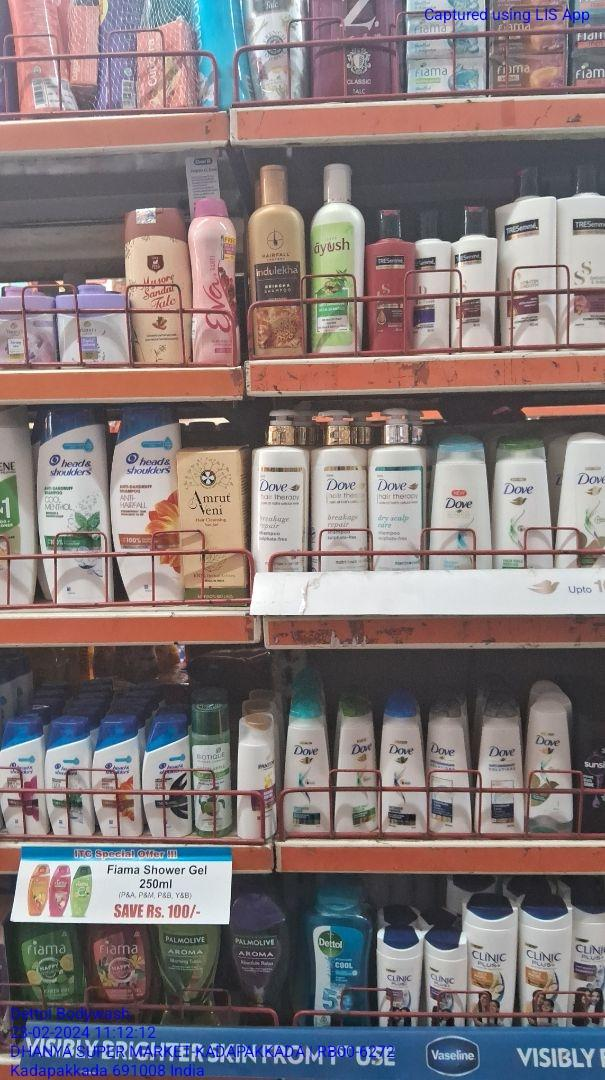Dettol_Bodywash_Cool: (308, 890, 374, 1027)
Palmolive_Aroma_Morning_Tonic_Shower_Gel_250ML: (155, 925, 220, 1023)
Palmolive_Aroma_Relax_250ML: (228, 897, 287, 1025)
